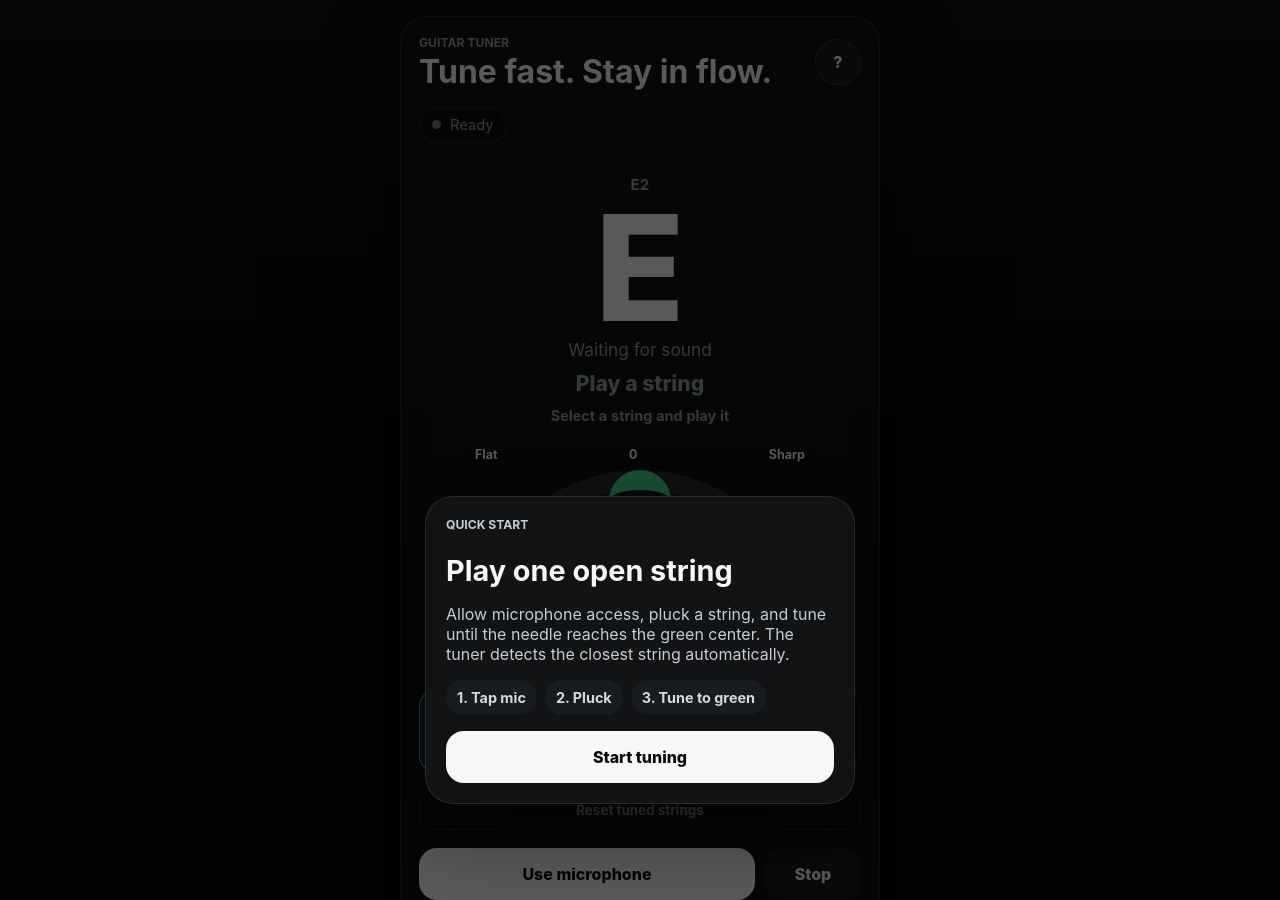
Test case: Guitar tuner app › lets the user close the beginner guide
Click the button "Start tuning": (640, 757) [446,731,834,783]
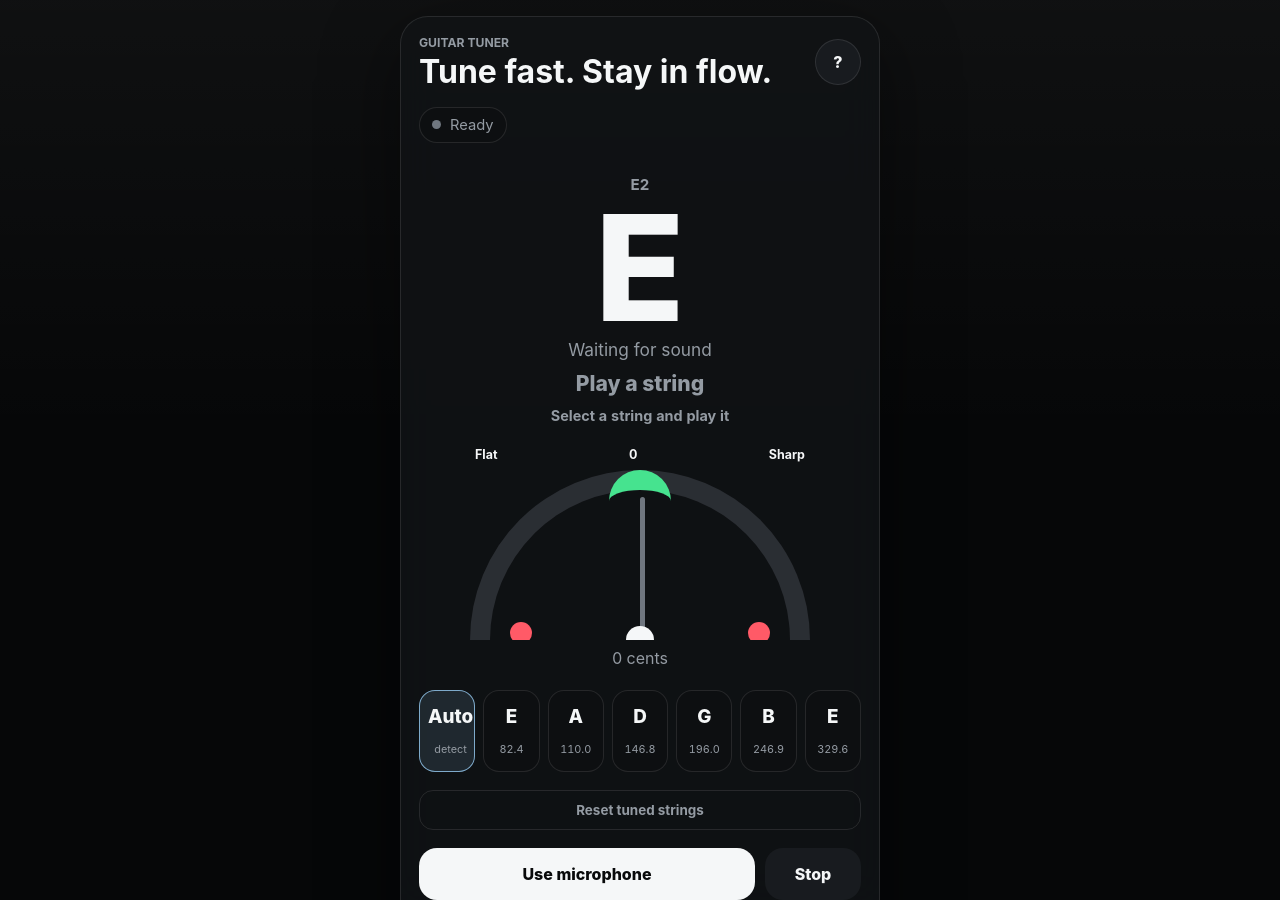
Check: the dialog is gone
